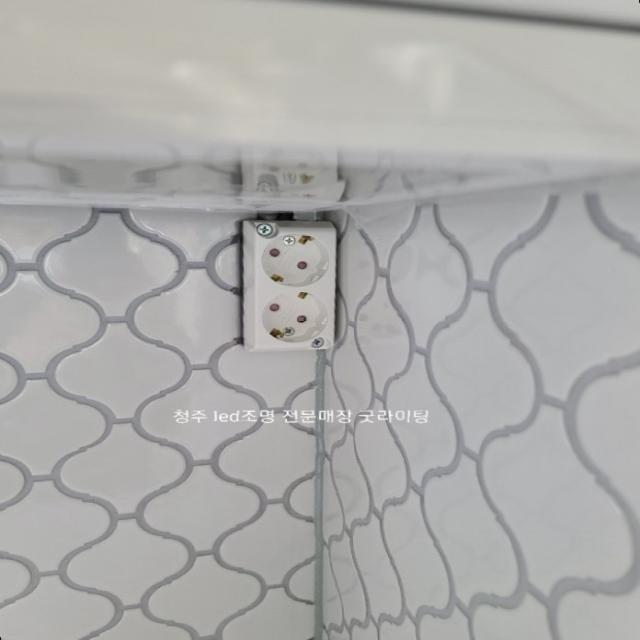typeb: (229, 212, 352, 370)
